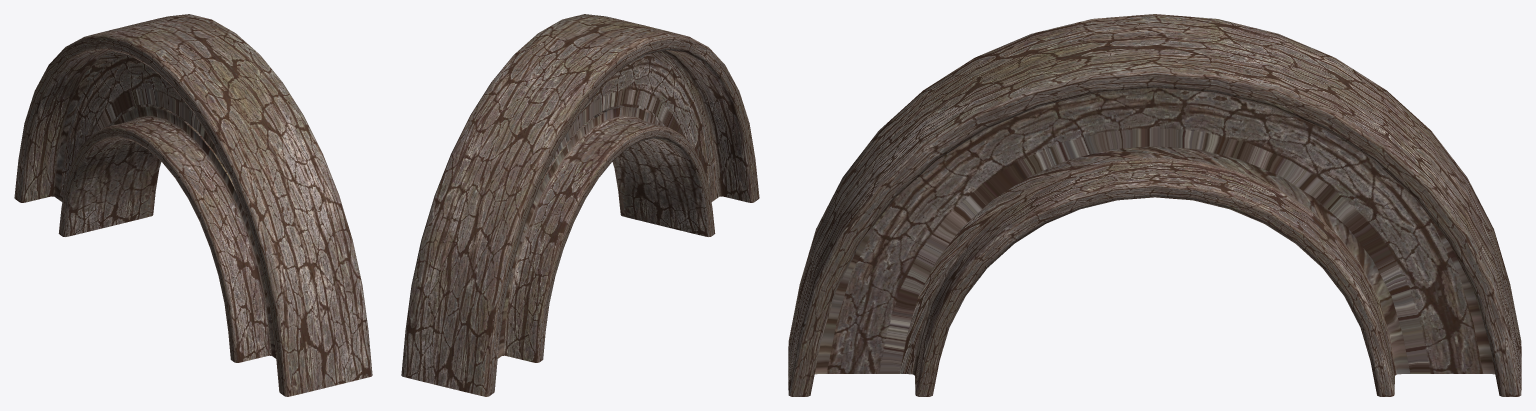
Rendered from balk_180.FBX.
3 views of the same model, side by side, from view 1: azimuth 30°, elevation 25°; view 2: azimuth 150°, elevation 25°; view 3: azimuth 270°, elevation 25° (orthographic). The views are drawn at different scales.
Visible parts, largest first — view 1: balk_180; view 2: balk_180; view 3: balk_180.
Part boxes in pixels (x1=…): balk_180: x1=14, y1=14, x2=372, y2=396; balk_180: x1=401, y1=14, x2=759, y2=396; balk_180: x1=788, y1=14, x2=1521, y2=396.
Size of the model in its own units: 3.1 by 16.19 by 7.97.
